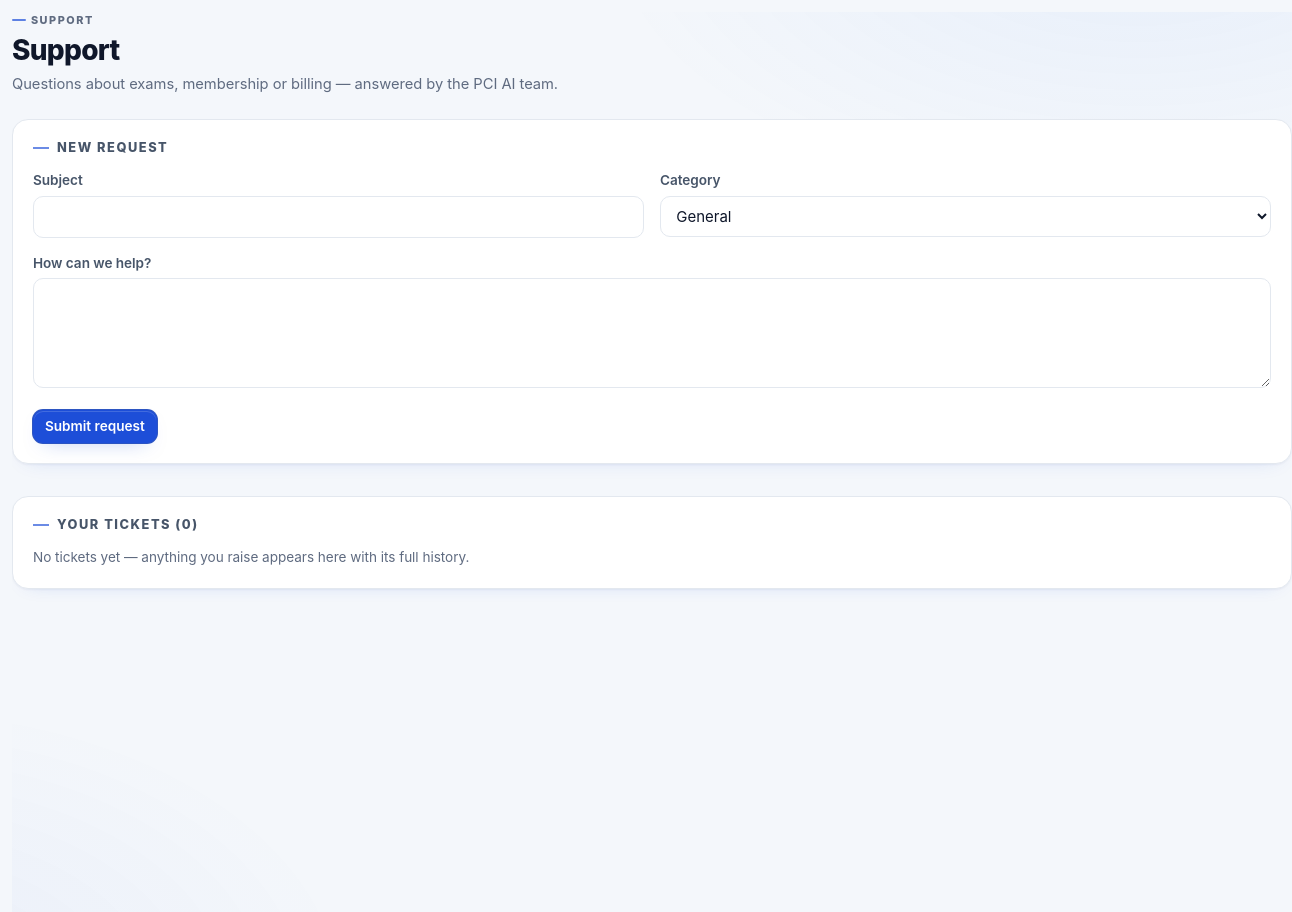
Test case: Support (ticket lifecycle) › surfaces the server error when ticket creation fails
Type "Help" into the field labelled "Subject" at (338, 217), box [33,196,644,238]
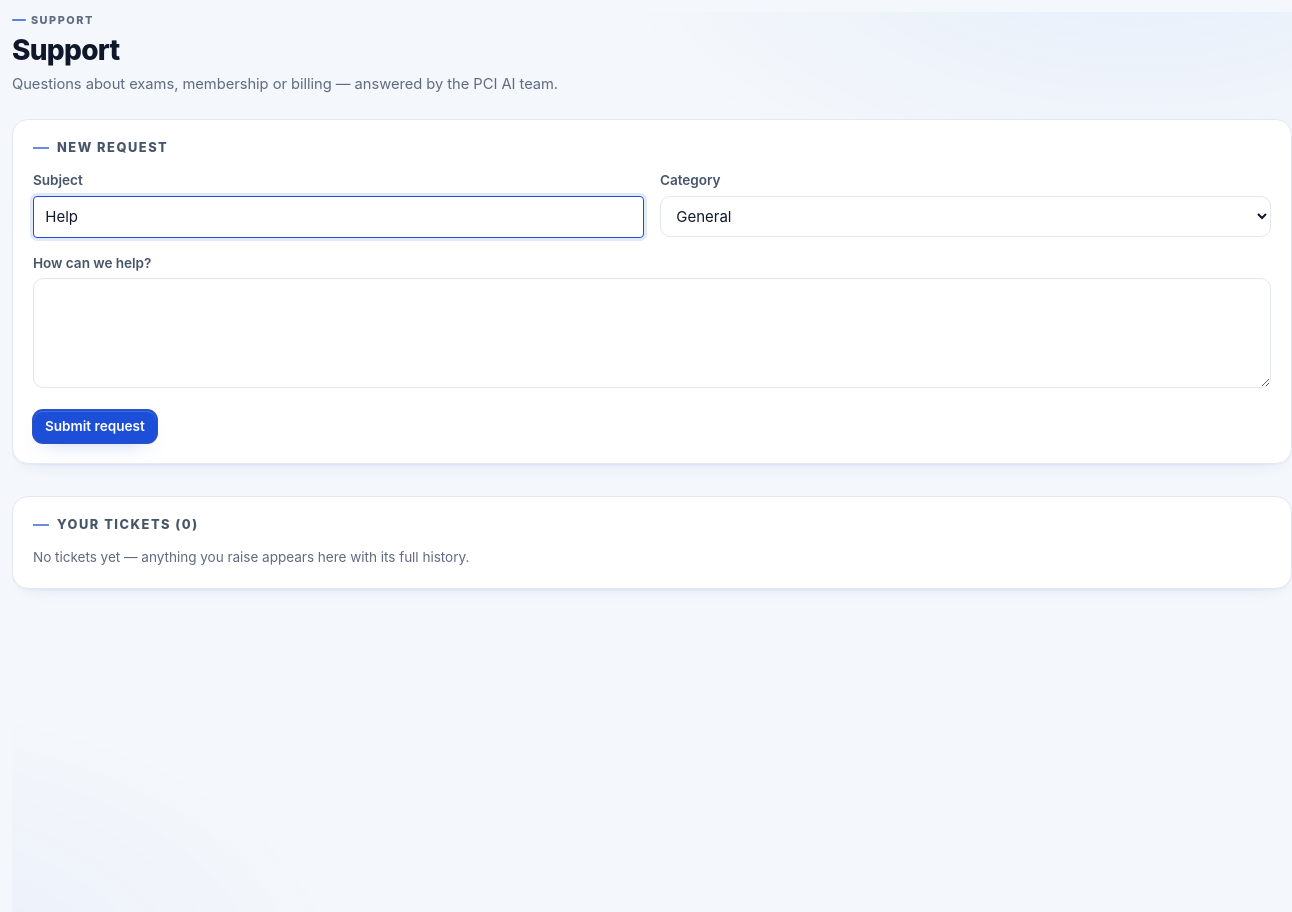
Type "Something broke." into the text box labelled "How can we help?" at (652, 333), box [33,278,1271,388]
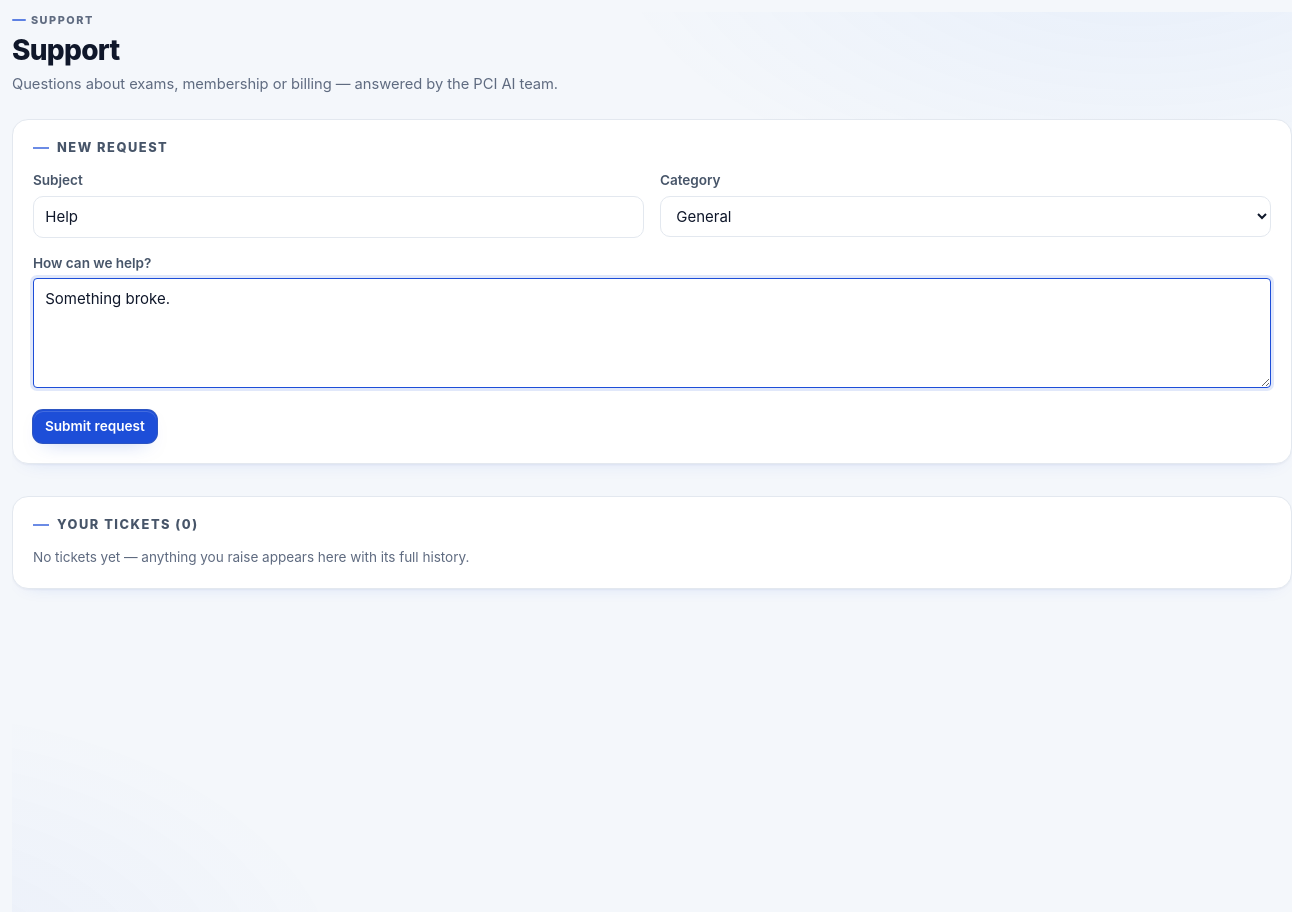
Click the button "Submit request" at (95, 426), box [33,410,157,443]
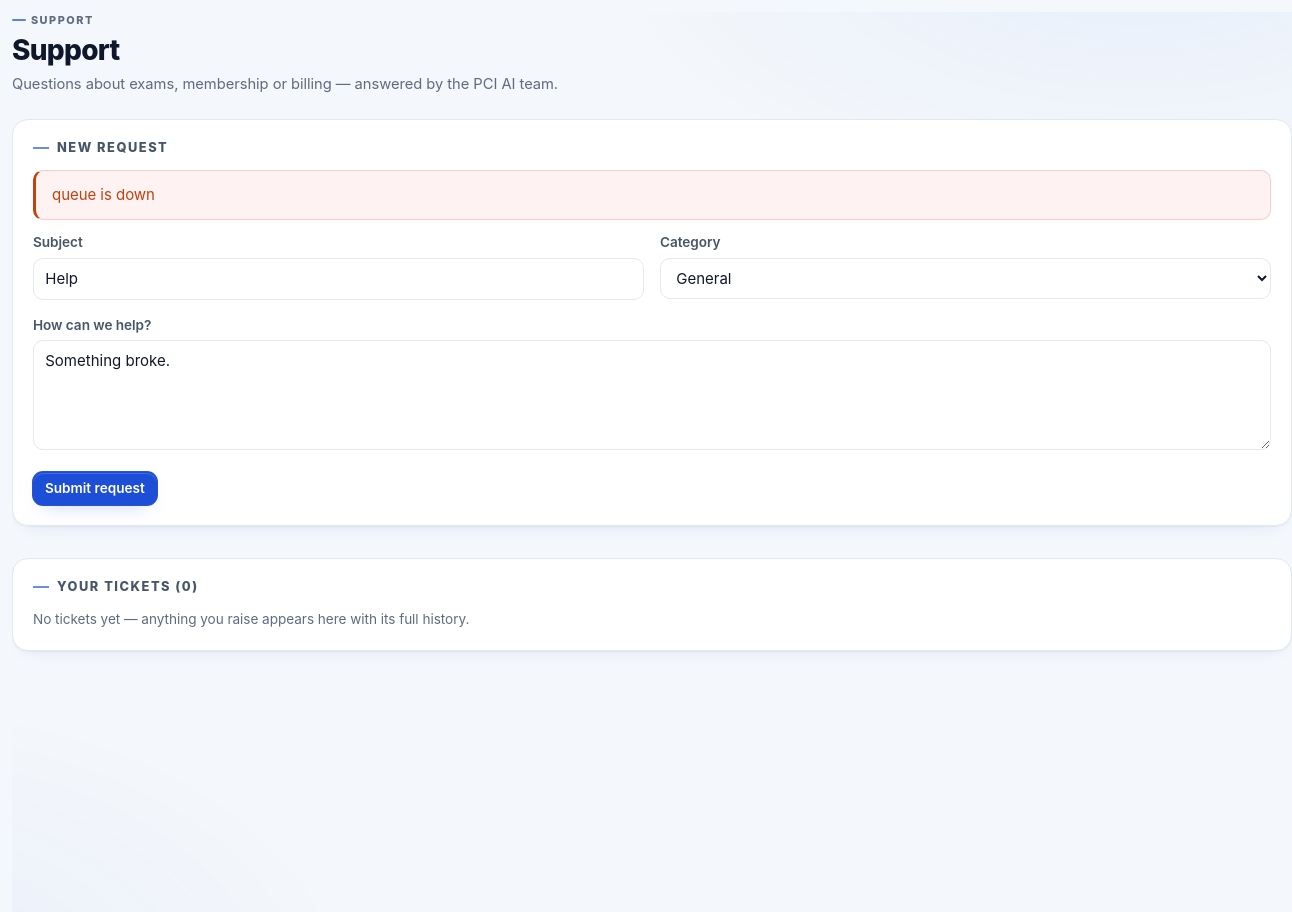
Expected: the message reads "queue is down", [52,185,155,204]
